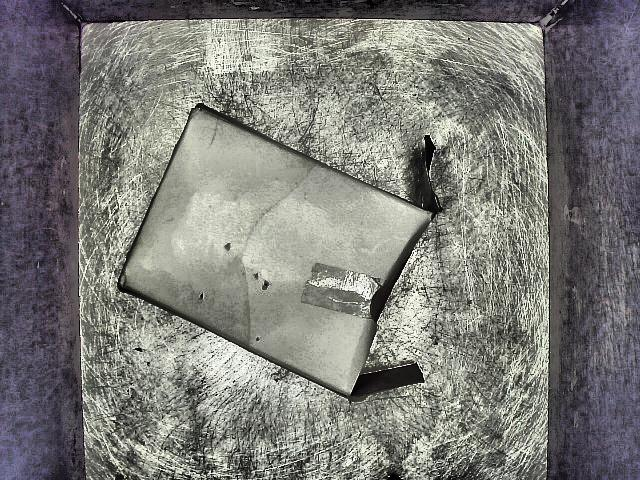Paper: (110, 92, 479, 424)
